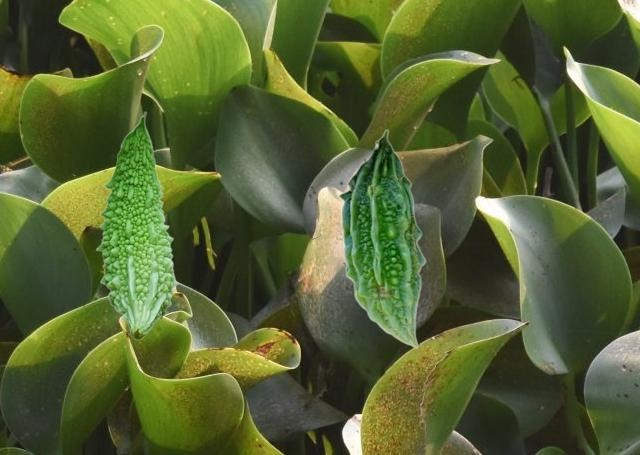ampalaya: (337, 128, 427, 349), (95, 111, 179, 342)
